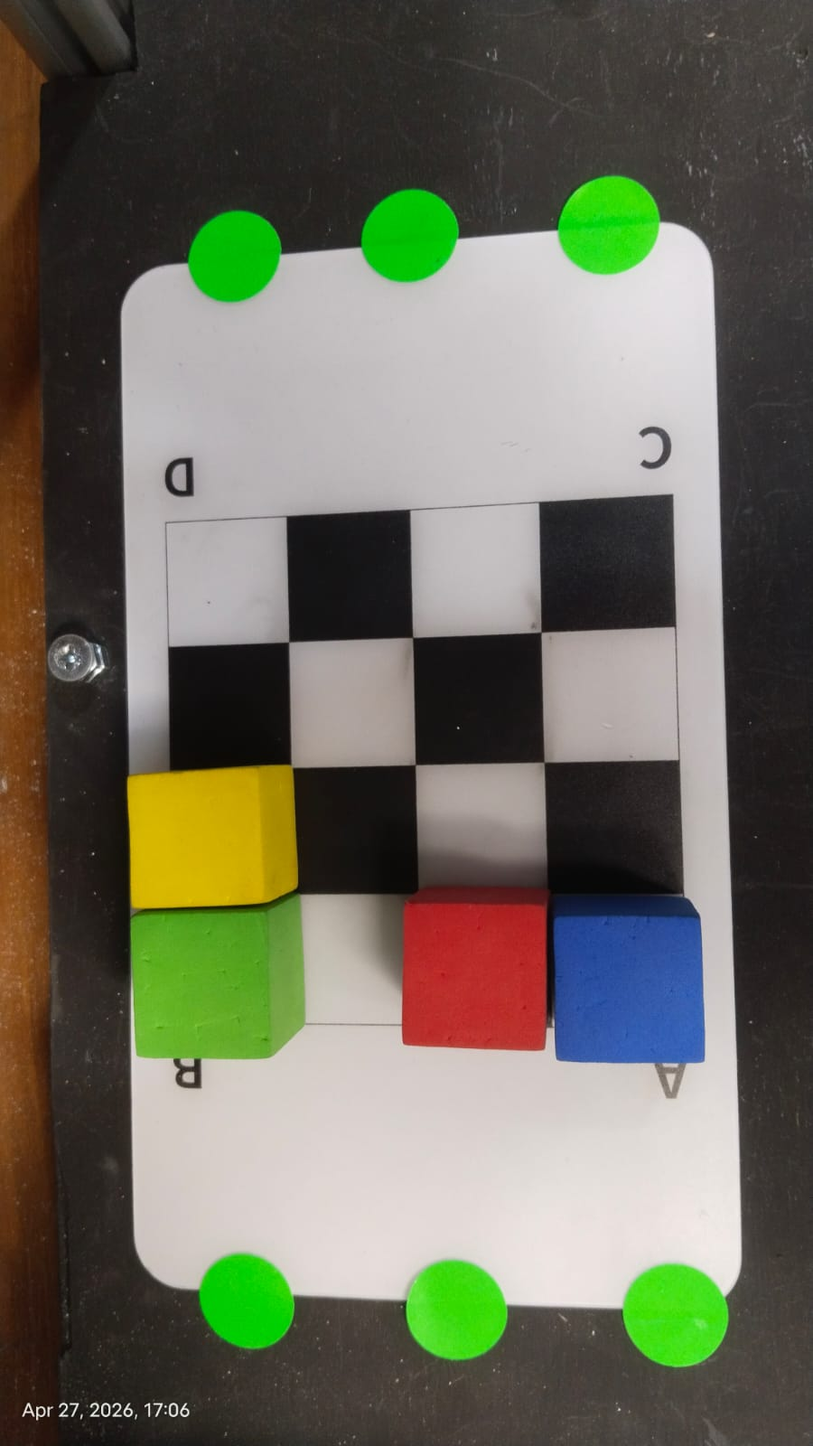blue: (552, 890, 704, 1066)
green: (124, 889, 312, 1066)
red: (400, 881, 550, 1057)
yellow: (117, 757, 302, 911)
